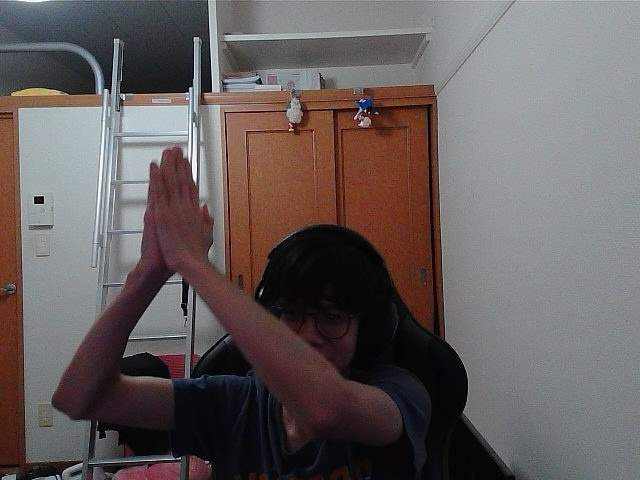pray: (155, 152, 209, 257)
